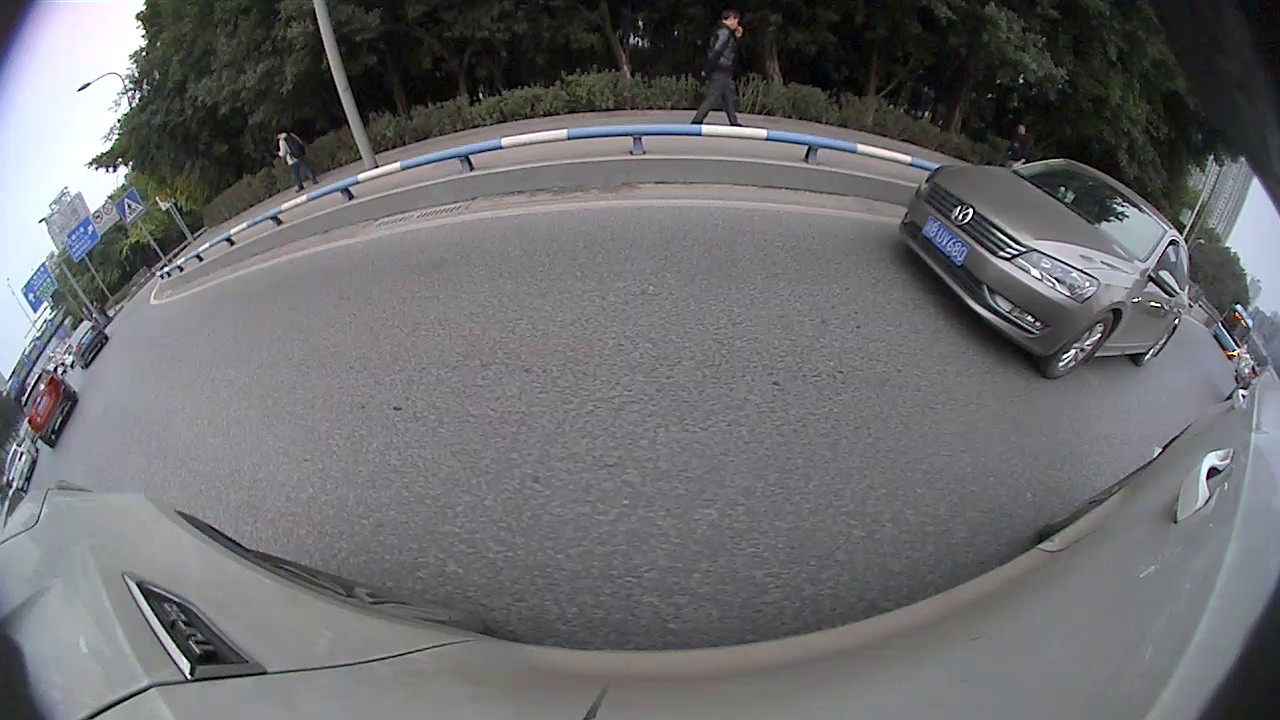bus: (1213, 303, 1254, 358)
car: (898, 158, 1191, 380), (20, 368, 79, 453), (68, 318, 110, 372), (2, 438, 38, 494), (1227, 363, 1279, 400)
front: (1037, 311, 1120, 384)
person: (713, 8, 740, 123), (279, 128, 300, 199), (1014, 126, 1030, 163)
rear: (1134, 324, 1177, 369)
